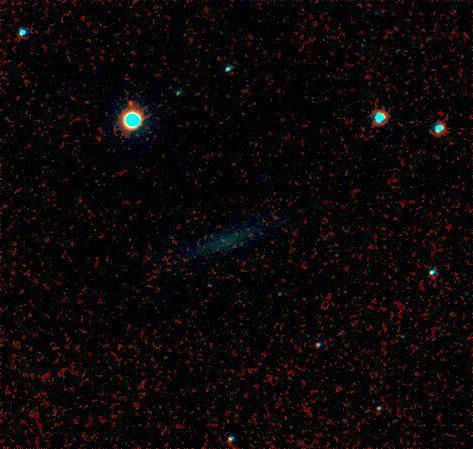star: (113, 91, 143, 121)
